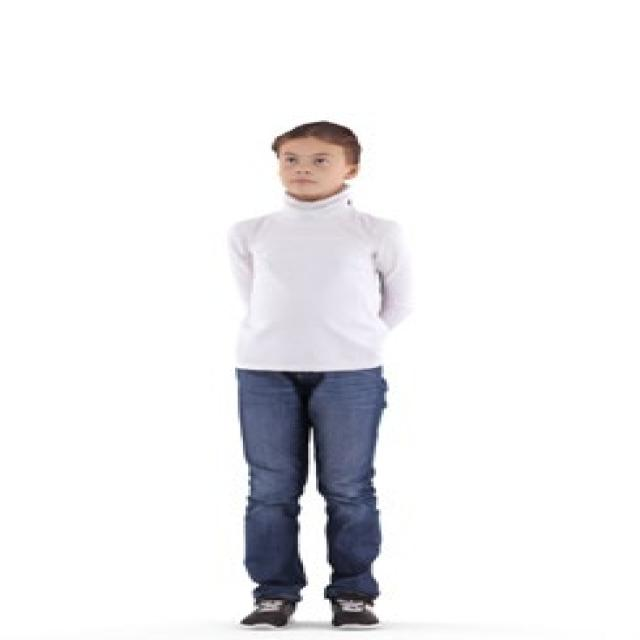standing: (223, 121, 411, 631)
